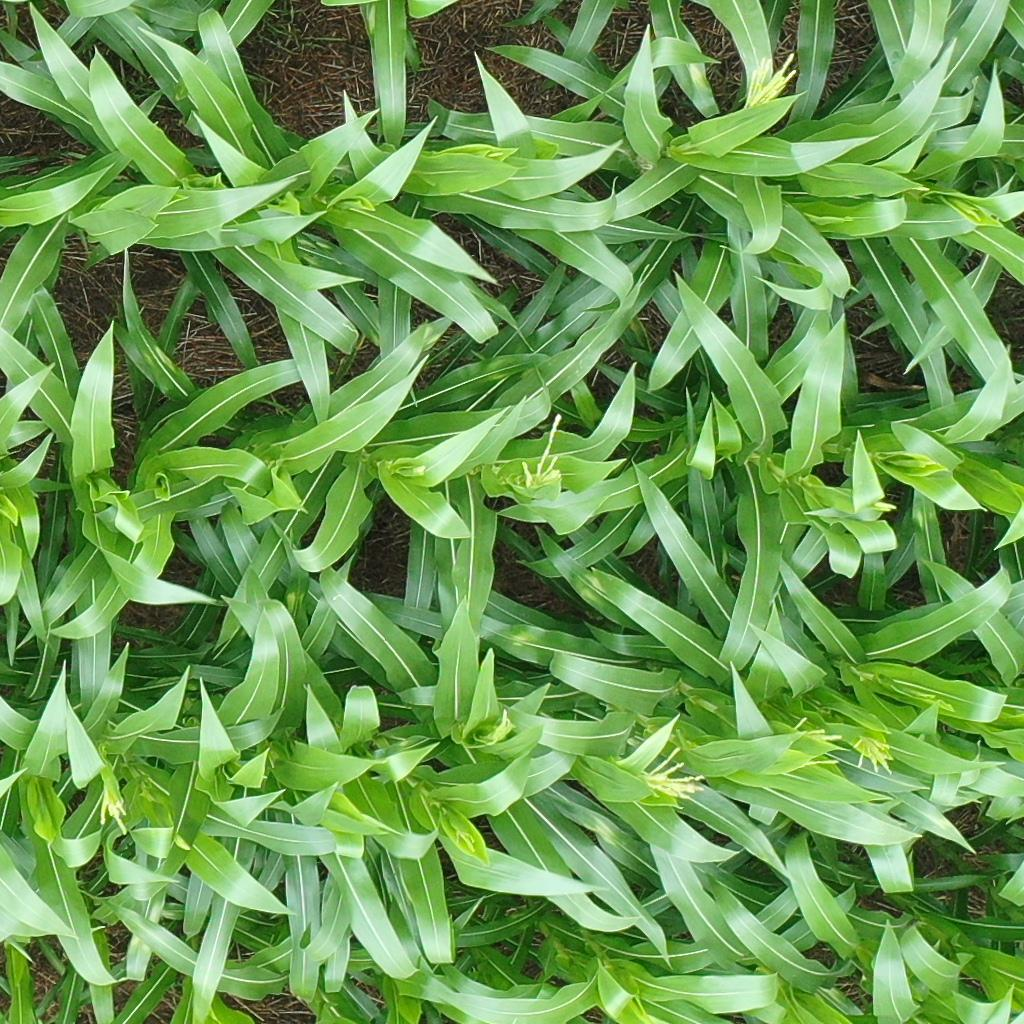Tassel: (638, 745, 707, 812), (512, 411, 567, 494), (737, 50, 799, 111), (789, 717, 846, 773), (96, 766, 134, 838), (851, 735, 900, 776), (478, 706, 515, 747), (452, 825, 480, 856), (871, 496, 899, 517), (398, 460, 428, 478)
